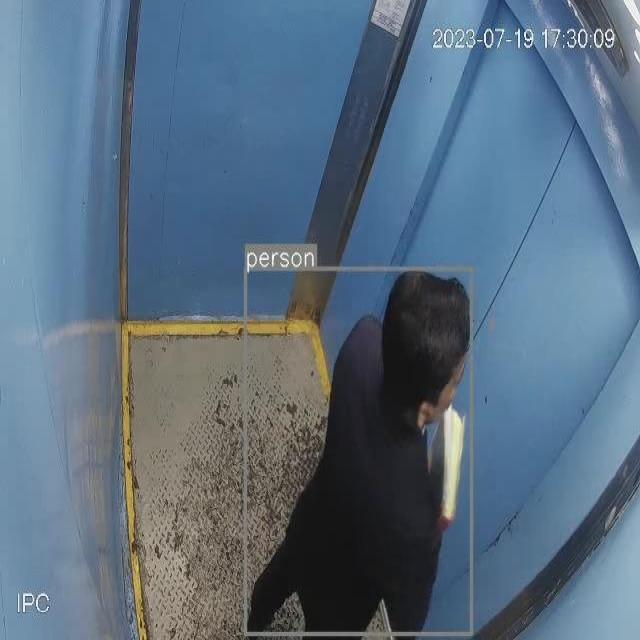person: (247, 270, 471, 634)
